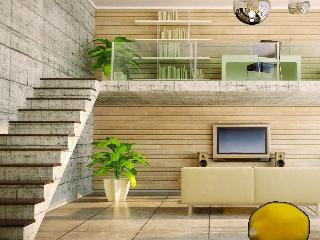lemon: (250, 202, 309, 240)
